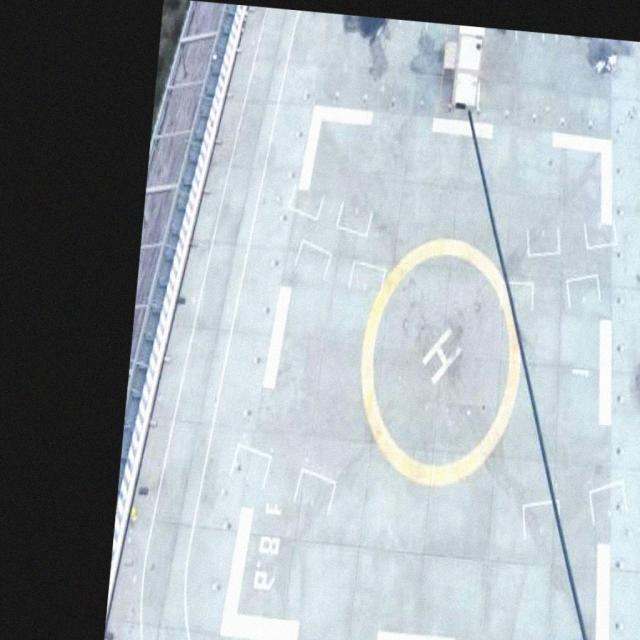helipad: (355, 231, 526, 491)
